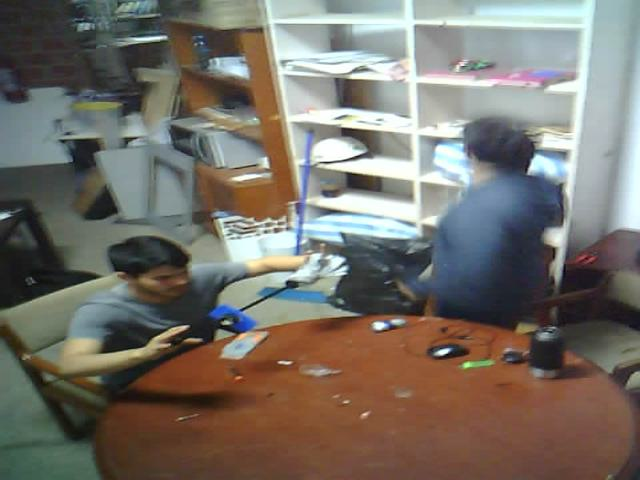person: (8, 199, 335, 415), (384, 76, 574, 368)
